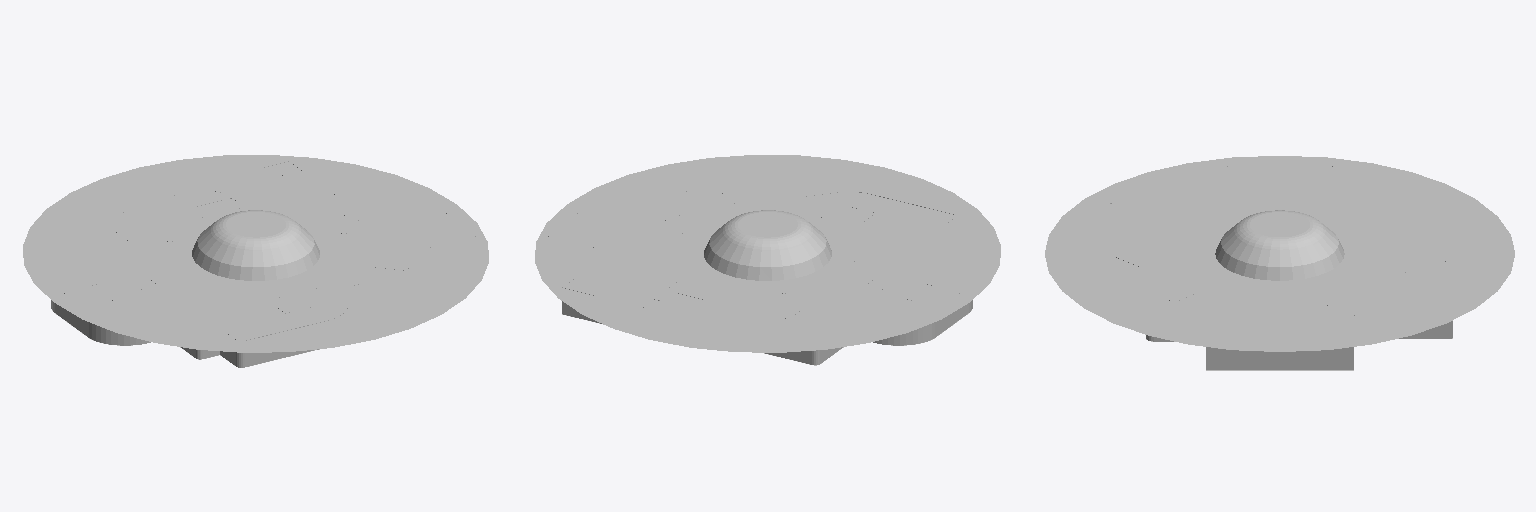
File: NewMap.obj
The picture shows the model from 3 angles: view 1: azimuth 30°, elevation 25°; view 2: azimuth 150°, elevation 25°; view 3: azimuth 270°, elevation 25°; orthographic projection.
Parts seen in each view (by area): view 1: Map_Cylinder.002_Map_Cylinder.004, Map_Cylinder.000; view 2: Map_Cylinder.002_Map_Cylinder.004, Map_Cylinder.000; view 3: Map_Cylinder.002_Map_Cylinder.004, Map_Cylinder.000.
Boxes of the visible parts, box(x1,y1,x2,y2) form: Map_Cylinder.002_Map_Cylinder.004: box(23, 155, 488, 352); Map_Cylinder.000: box(51, 161, 475, 367); Map_Cylinder.002_Map_Cylinder.004: box(535, 155, 1000, 352); Map_Cylinder.000: box(548, 191, 972, 365); Map_Cylinder.002_Map_Cylinder.004: box(1045, 156, 1514, 351); Map_Cylinder.000: box(1110, 166, 1452, 370).
Bounding box in the file's own units: 79.58 × 11.8 × 80.61.